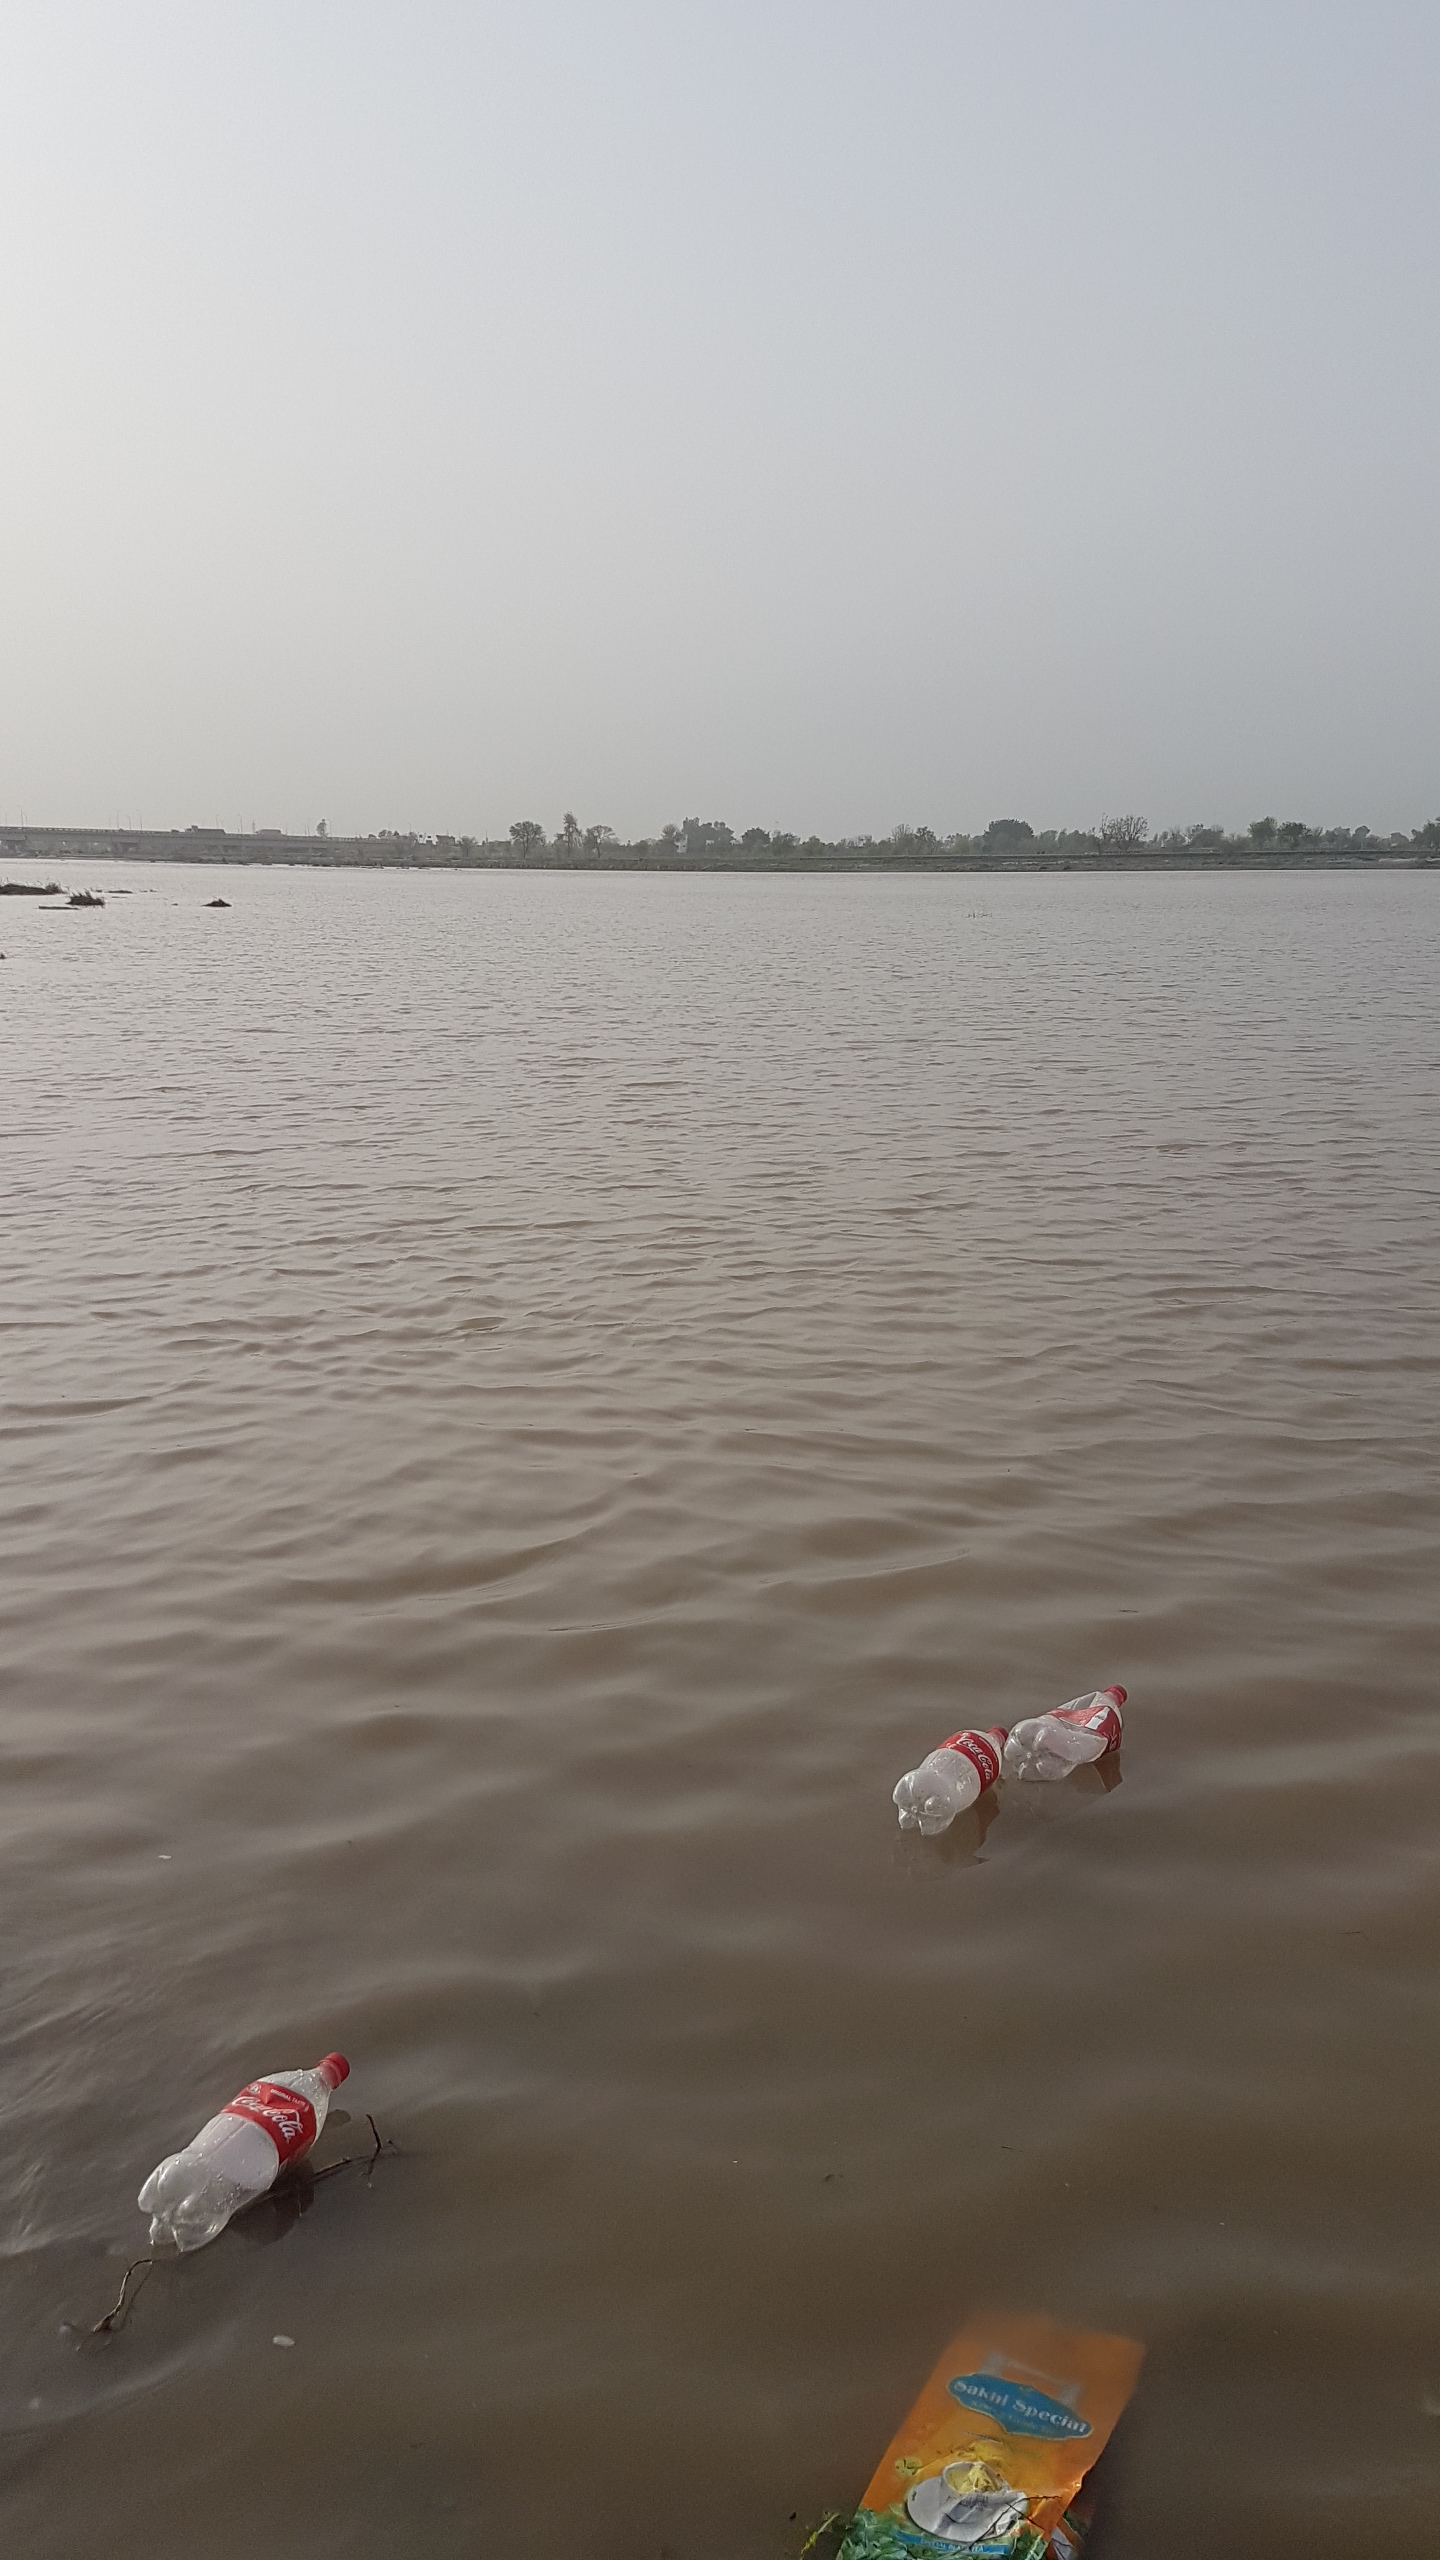Plastic Bottle: (139, 2052, 352, 2252), (891, 1725, 1009, 1834), (1002, 1684, 1127, 1783)
